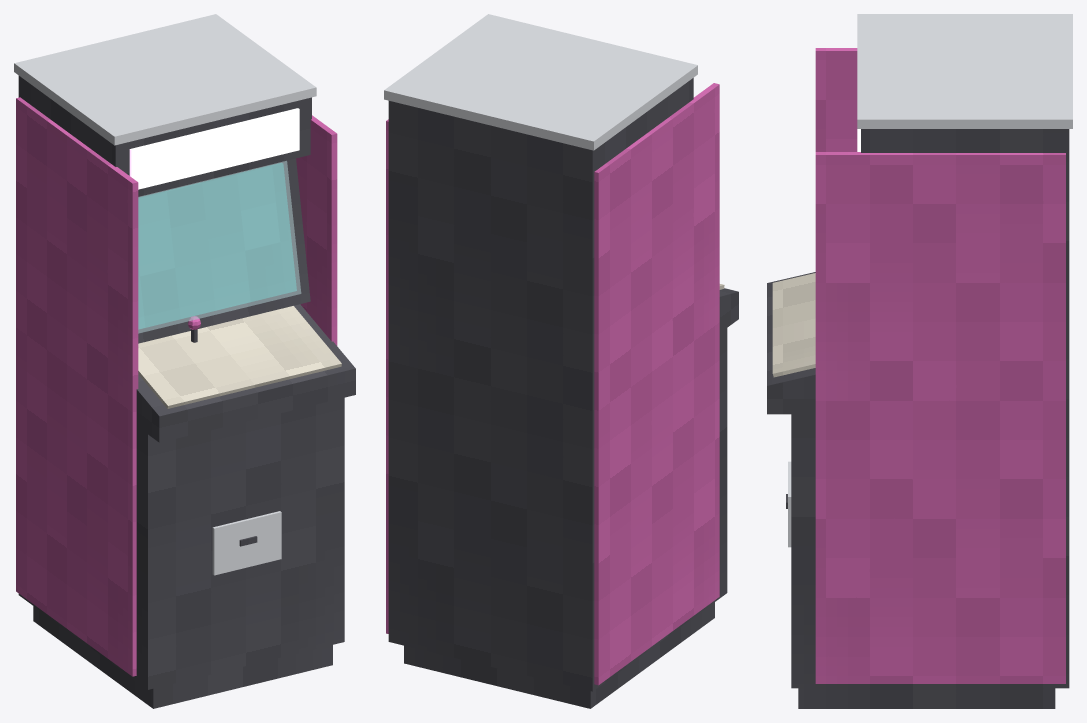
File: three-d-retro-arcade-and-mall-1989-retro-arcade-and-mall-1989-upright-cabinet-magenta-626a886f.glb
3 views of the same model, side by side, from view 1: azimuth 30°, elevation 25°; view 2: azimuth 150°, elevation 25°; view 3: azimuth 270°, elevation 25° (orthographic). The views are drawn at different scales.
Parts seen in each view (by area): view 1: upright-cabinet-magenta; view 2: upright-cabinet-magenta; view 3: upright-cabinet-magenta.
Boxes of the visible parts, x1,y1,x2,y2 form: upright-cabinet-magenta: (14, 14, 355, 708); upright-cabinet-magenta: (384, 14, 738, 708); upright-cabinet-magenta: (767, 14, 1072, 708).
Bounding box in the file's own units: 0.7299 × 1.89 × 0.88.
7 materials, 4 textured.
